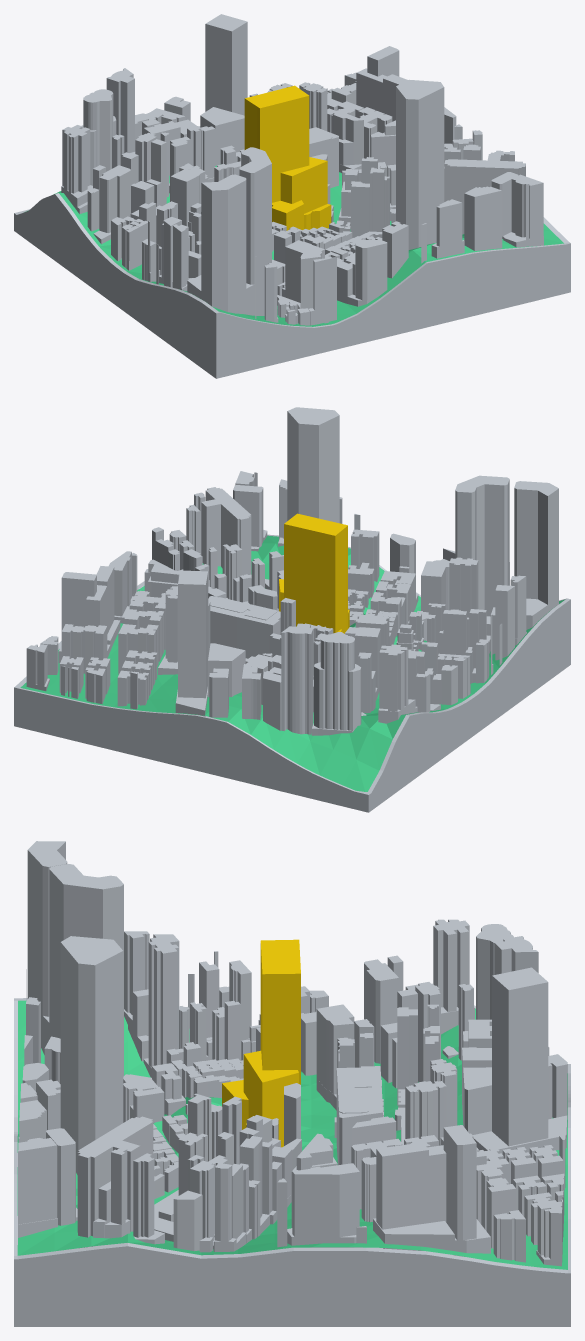
File: hysenplace.glb
The picture shows the model from 3 angles, top to bottom: view 1: azimuth 30°, elevation 25°; view 2: azimuth 150°, elevation 25°; view 3: azimuth 270°, elevation 25°; orthographic projection. The views are drawn at different scales.
Visible parts, largest first — view 1: Model, Group680, Group519, Group304, Group395, Group43, Group215, Group679, Group357, Group154, Group224, Group25 (+44 smaller); view 2: Model, Group679, Group680, Group395, Group519, Group215, Group304, Group43, Group637, Group357, Group172, Group82 (+44 smaller); view 3: Group680, Group519, Group679, Model, Group43, Group215, Group395, Group45, Group357, Group196, Group304, Group249 (+65 smaller).
Boxes of the visible parts, x1=… form: Model: x1=14, y1=208, x2=570, y2=378; Group680: x1=15, y1=193, x2=568, y2=372; Group519: x1=396, y1=79, x2=444, y2=249; Group304: x1=201, y1=174, x2=246, y2=314; Group395: x1=244, y1=85, x2=309, y2=202; Group43: x1=205, y1=14, x2=247, y2=115; Group215: x1=239, y1=147, x2=271, y2=315; Group679: x1=24, y1=165, x2=563, y2=326; Group357: x1=444, y1=154, x2=525, y2=234; Group154: x1=464, y1=186, x2=502, y2=250; Group224: x1=280, y1=157, x2=327, y2=213; Group25: x1=285, y1=240, x2=324, y2=308; Model: x1=14, y1=534, x2=570, y2=812; Group679: x1=20, y1=535, x2=564, y2=791; Group680: x1=15, y1=581, x2=569, y2=795; Group395: x1=284, y1=513, x2=347, y2=633; Group519: x1=287, y1=407, x2=339, y2=523; Group215: x1=455, y1=475, x2=509, y2=616; Group304: x1=514, y1=481, x2=558, y2=612; Group43: x1=178, y1=570, x2=208, y2=698; Group637: x1=281, y1=623, x2=313, y2=734; Group357: x1=201, y1=487, x2=251, y2=575; Group172: x1=314, y1=662, x2=361, y2=730; Group82: x1=208, y1=596, x2=280, y2=658; Group680: x1=17, y1=998, x2=567, y2=1320; Group519: x1=60, y1=936, x2=123, y2=1174; Group679: x1=17, y1=1000, x2=567, y2=1269; Model: x1=14, y1=998, x2=570, y2=1326; Group43: x1=492, y1=967, x2=548, y2=1146; Group215: x1=49, y1=864, x2=123, y2=1076; Group395: x1=260, y1=939, x2=300, y2=1084; Group45: x1=292, y1=1163, x2=359, y2=1247; Group357: x1=77, y1=1116, x2=153, y2=1248; Group196: x1=376, y1=1142, x2=428, y2=1229; Group304: x1=27, y1=841, x2=67, y2=1049; Group249: x1=148, y1=936, x2=178, y2=1067.
Size of the model in its own units: 32.52 by 18.69 by 32.11.
